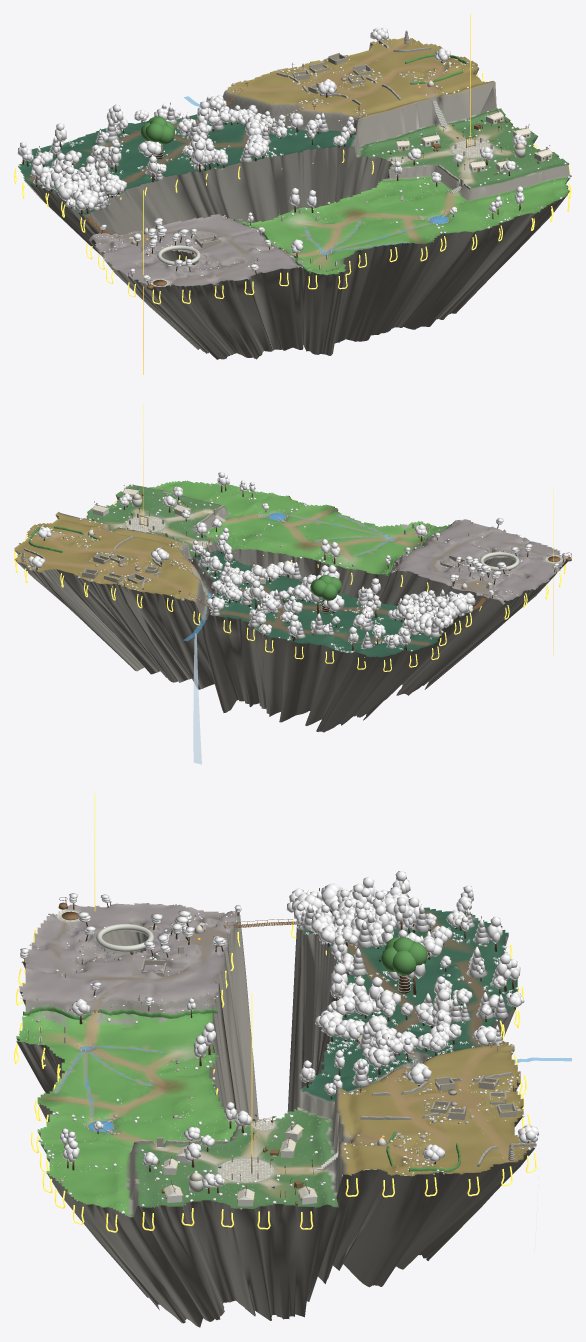
Rendered from ervane.glb.
The picture shows the model from 3 angles, top to bottom: view 1: azimuth 30°, elevation 25°; view 2: azimuth 150°, elevation 25°; view 3: azimuth 270°, elevation 25°; orthographic projection. The views are drawn at different scales.
Parts seen in each view (by area): view 1: mo_sol_jeu, mo_falaise_jeu, mo_objets_reunis, mo_lignes_reunis, mo_agrafes_reunies, mo_eau_reunis, mo_sol_pave_0; view 2: mo_sol_jeu, mo_falaise_jeu, mo_objets_reunis, mo_eau_reunis, mo_agrafes_reunies, mo_lignes_reunis, mo_sol_pave_0; view 3: mo_sol_jeu, mo_falaise_jeu, mo_objets_reunis, mo_lignes_reunis, mo_agrafes_reunies, mo_eau_reunis, mo_sol_pave_0.
Boxes of the visible parts, x1,y1,x2,y2 form: mo_sol_jeu: [18, 37, 571, 286]; mo_falaise_jeu: [21, 42, 571, 359]; mo_objets_reunis: [129, 14, 552, 374]; mo_lignes_reunis: [83, 40, 471, 273]; mo_agrafes_reunies: [14, 67, 571, 304]; mo_eau_reunis: [184, 96, 448, 255]; mo_sol_pave_0: [451, 140, 494, 157]; mo_sol_jeu: [14, 480, 565, 657]; mo_falaise_jeu: [14, 481, 567, 732]; mo_objets_reunis: [21, 403, 571, 655]; mo_eau_reunis: [183, 512, 396, 764]; mo_agrafes_reunies: [14, 490, 566, 671]; mo_lignes_reunis: [23, 505, 488, 613]; mo_sol_pave_0: [126, 516, 165, 532]; mo_sol_jeu: [16, 903, 535, 1217]; mo_falaise_jeu: [17, 904, 534, 1327]; mo_objets_reunis: [28, 793, 516, 1206]; mo_lignes_reunis: [23, 918, 536, 1172]; mo_agrafes_reunies: [14, 920, 536, 1232]; mo_eau_reunis: [55, 1046, 571, 1252]; mo_sol_pave_0: [217, 1158, 274, 1182].
Size of the model in its own units: 237 by 134 by 185.
